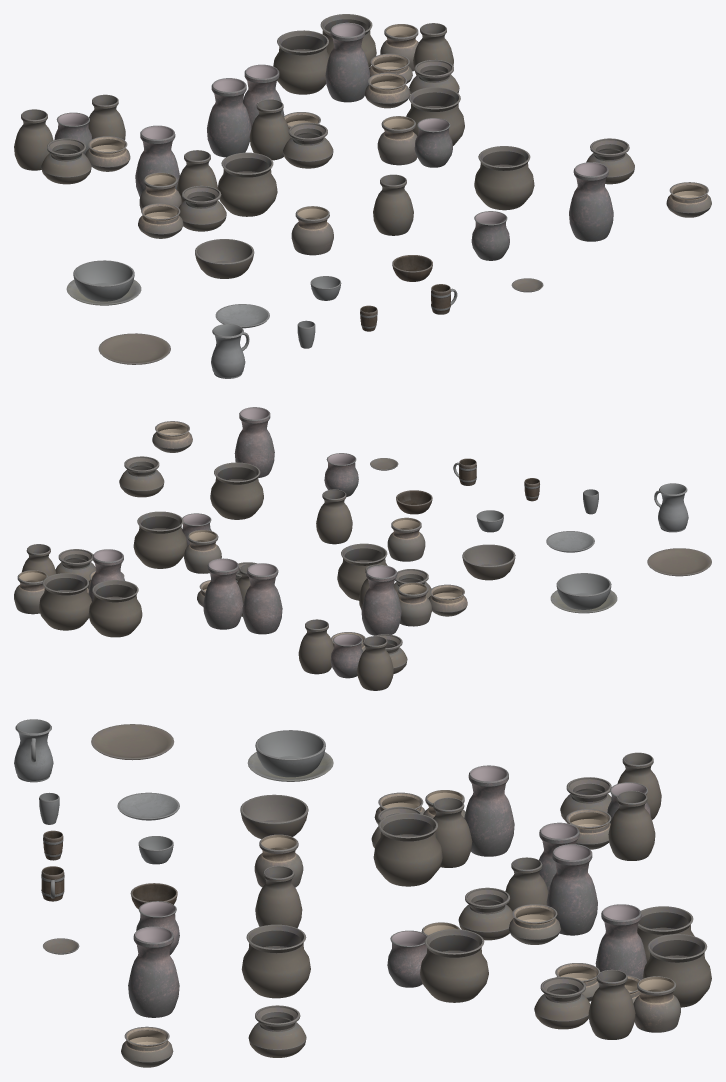
File: Ceramics_and_Pottery_1A1.fbx
3 renders of one model, top to bottom at view 1: azimuth 30°, elevation 25°; view 2: azimuth 150°, elevation 25°; view 3: azimuth 270°, elevation 25°, orthographic. The views are drawn at different scales.
Visible parts, largest first — view 1: Pottery_Group_1A5, Pottery_Group_1A4, Pottery_Group_1A2, Pottery_Group_1A3, Pottery_Group_1A1, Pottery_1A4, Pottery_1A5, Serving_Bowl_1A2, Pottery_1A2, Serving_Bowl_1A1, Serving_Plate_1A1, Pottery_1A1 (+8 smaller); view 2: Pottery_Group_1A5, Pottery_Group_1A4, Pottery_Group_1A2, Pottery_Group_1A3, Pottery_Group_1A1, Pottery_1A4, Serving_Bowl_1A2, Pottery_1A5, Pottery_1A2, Serving_Bowl_1A1, Pottery_1A6, Serving_Plate_1A1 (+8 smaller); view 3: Pottery_Group_1A5, Pottery_Group_1A4, Pottery_Group_1A2, Pottery_Group_1A3, Pottery_Group_1A1, Pottery_1A4, Pottery_1A5, Serving_Bowl_1A2, Pottery_1A6, Serving_Bowl_1A1, Serving_Plate_1A1, Pottery_1A2 (+9 smaller).
Part boxes in pixels (<box>): Pottery_Group_1A5: <box>273,14,459,108</box>; Pottery_Group_1A4: <box>135,125,277,238</box>; Pottery_Group_1A2: <box>207,64,333,168</box>; Pottery_Group_1A3: <box>14,94,130,184</box>; Pottery_Group_1A1: <box>377,87,464,167</box>; Pottery_1A4: <box>474,146,534,210</box>; Pottery_1A5: <box>569,162,613,241</box>; Serving_Bowl_1A2: <box>66,260,141,305</box>; Pottery_1A2: <box>373,174,413,235</box>; Serving_Bowl_1A1: <box>195,239,254,278</box>; Serving_Plate_1A1: <box>98,333,170,364</box>; Pottery_1A1: <box>291,206,333,255</box>; Pottery_Group_1A5: <box>14,544,142,637</box>; Pottery_Group_1A4: <box>337,543,467,635</box>; Pottery_Group_1A2: <box>197,558,282,634</box>; Pottery_Group_1A3: <box>298,619,407,690</box>; Pottery_Group_1A1: <box>133,511,221,573</box>; Pottery_1A4: <box>210,462,263,519</box>; Serving_Bowl_1A2: <box>550,573,617,613</box>; Pottery_1A5: <box>234,407,274,477</box>; Pottery_1A2: <box>316,489,352,544</box>; Serving_Bowl_1A1: <box>462,544,515,580</box>; Pottery_1A6: <box>119,456,164,497</box>; Serving_Plate_1A1: <box>647,548,711,576</box>; Pottery_Group_1A5: <box>534,904,711,1039</box>; Pottery_Group_1A4: <box>371,765,514,886</box>; Pottery_Group_1A2: <box>458,822,597,944</box>; Pottery_Group_1A3: <box>560,752,661,860</box>; Pottery_Group_1A1: <box>387,922,488,1002</box>; Pottery_1A4: <box>241,924,310,998</box>; Pottery_1A5: <box>128,926,179,1017</box>; Serving_Bowl_1A2: <box>247,730,333,781</box>; Pottery_1A6: <box>248,1005,306,1057</box>; Serving_Bowl_1A1: <box>240,794,308,839</box>; Serving_Plate_1A1: <box>91,724,174,760</box>; Pottery_1A2: <box>255,866,302,928</box>.
Bounding box in the file's own units: 823 × 84.21 × 709.
